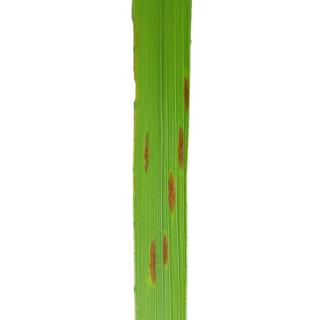Bercak-Cokelat-Sempit: (165, 171, 180, 223), (145, 236, 157, 292), (142, 123, 152, 175), (176, 123, 186, 175), (179, 75, 191, 115), (160, 232, 171, 272)
